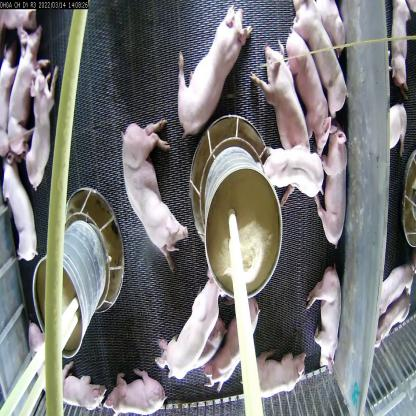Pig: (173, 2, 252, 129), (242, 37, 315, 174), (120, 118, 190, 253), (296, 7, 360, 128), (156, 275, 222, 384), (284, 31, 336, 151), (314, 131, 357, 250), (212, 302, 266, 390), (247, 348, 311, 414), (19, 70, 58, 174), (9, 24, 43, 142), (267, 140, 322, 206), (104, 365, 175, 415), (0, 150, 38, 242), (309, 264, 340, 367), (54, 378, 106, 415), (23, 323, 49, 350)
